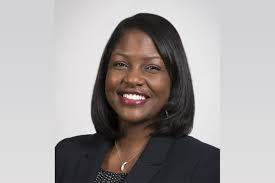no-mask: (105, 23, 173, 128)
